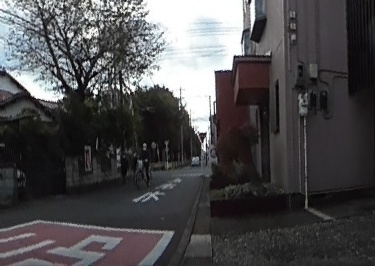person: (140, 139, 154, 185), (129, 149, 141, 178), (118, 151, 129, 180)
